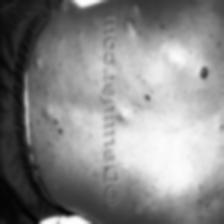Unclassified: (125, 0, 147, 36), (30, 53, 42, 75), (116, 109, 127, 131)
